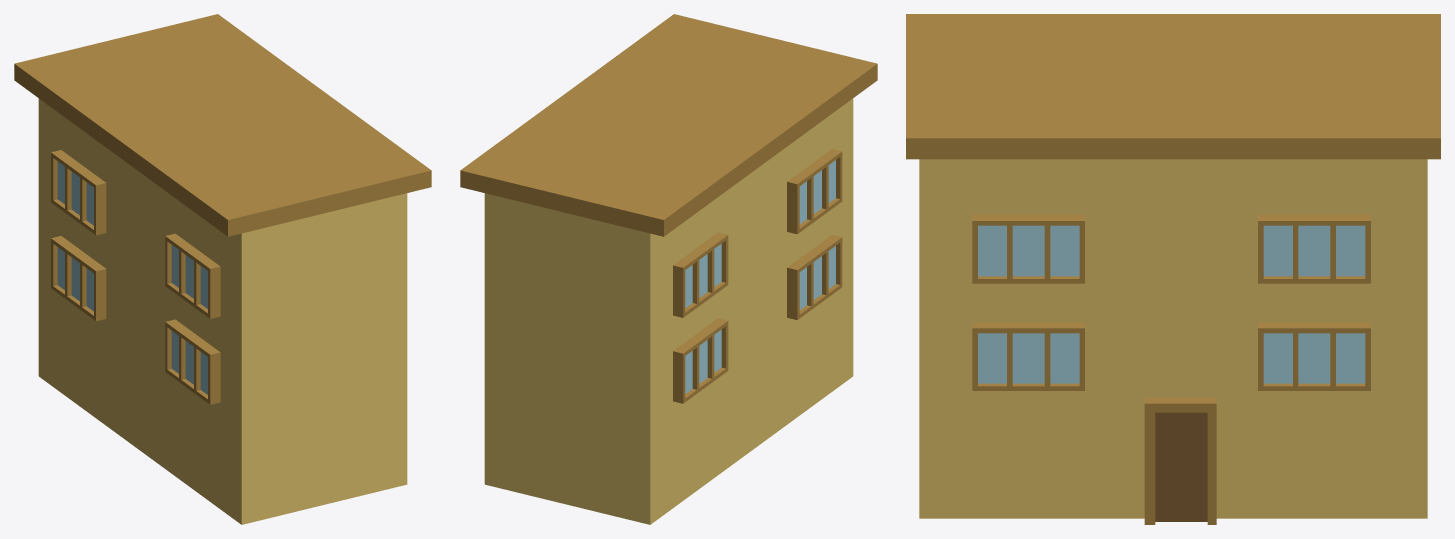
Rendered from 1_house_mini.fbx.
3 views of the same model, side by side, from view 1: azimuth 30°, elevation 25°; view 2: azimuth 150°, elevation 25°; view 3: azimuth 270°, elevation 25° (orthographic). The views are drawn at different scales.
Parts seen in each view (by area): view 1: Cube.039; view 2: Cube.039; view 3: Cube.039.
Part boxes in pixels (left/top/right/bottom): Cube.039: left=14, top=14, right=431, bottom=524; Cube.039: left=460, top=14, right=877, bottom=524; Cube.039: left=906, top=14, right=1440, bottom=524.
Size of the model in its own units: 175 by 257 by 318.
